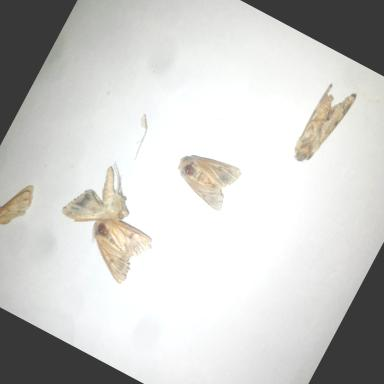abw: (55, 149, 150, 248), (284, 75, 362, 177), (70, 207, 159, 293), (162, 137, 248, 218), (0, 166, 42, 246)
